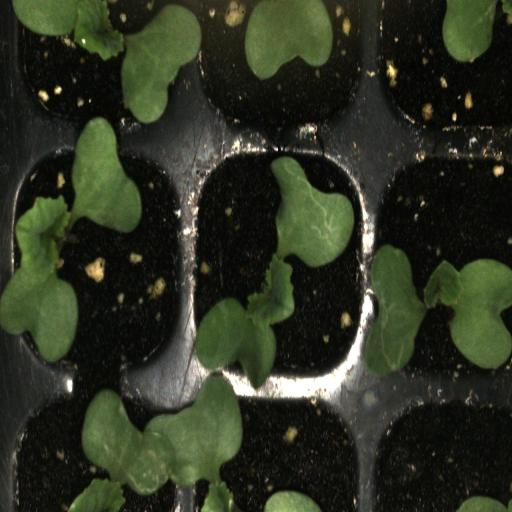seedling: (188, 131, 376, 388), (15, 134, 190, 388), (377, 131, 512, 383), (14, 0, 191, 134)
